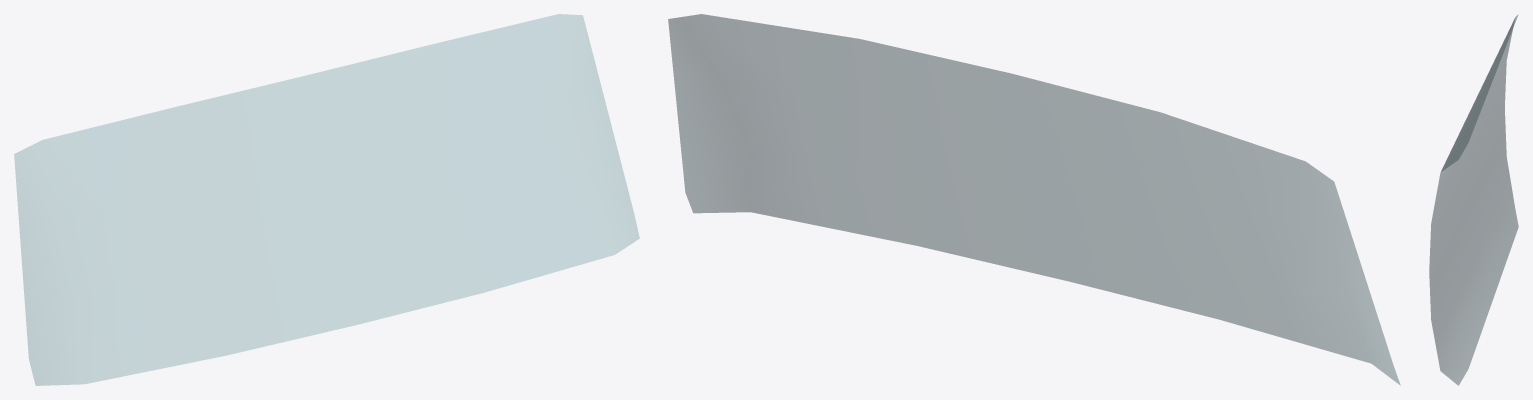
File: Truck_2_Window_F_Tessellate.fbx
The picture shows the model from 3 angles, left to right: view 1: azimuth 30°, elevation 25°; view 2: azimuth 150°, elevation 25°; view 3: azimuth 270°, elevation 25°; orthographic projection. The views are drawn at different scales.
Visible parts, largest first — view 1: Truck_2_Window_F_Tessellate; view 2: Truck_2_Window_F_Tessellate; view 3: Truck_2_Window_F_Tessellate.
Boxes of the visible parts, <box> form: Truck_2_Window_F_Tessellate: <box>14,14,639,385</box>; Truck_2_Window_F_Tessellate: <box>668,14,1400,385</box>; Truck_2_Window_F_Tessellate: <box>1429,15,1518,385</box>.
Bounding box in the file's own units: 2444 × 831 × 409.
